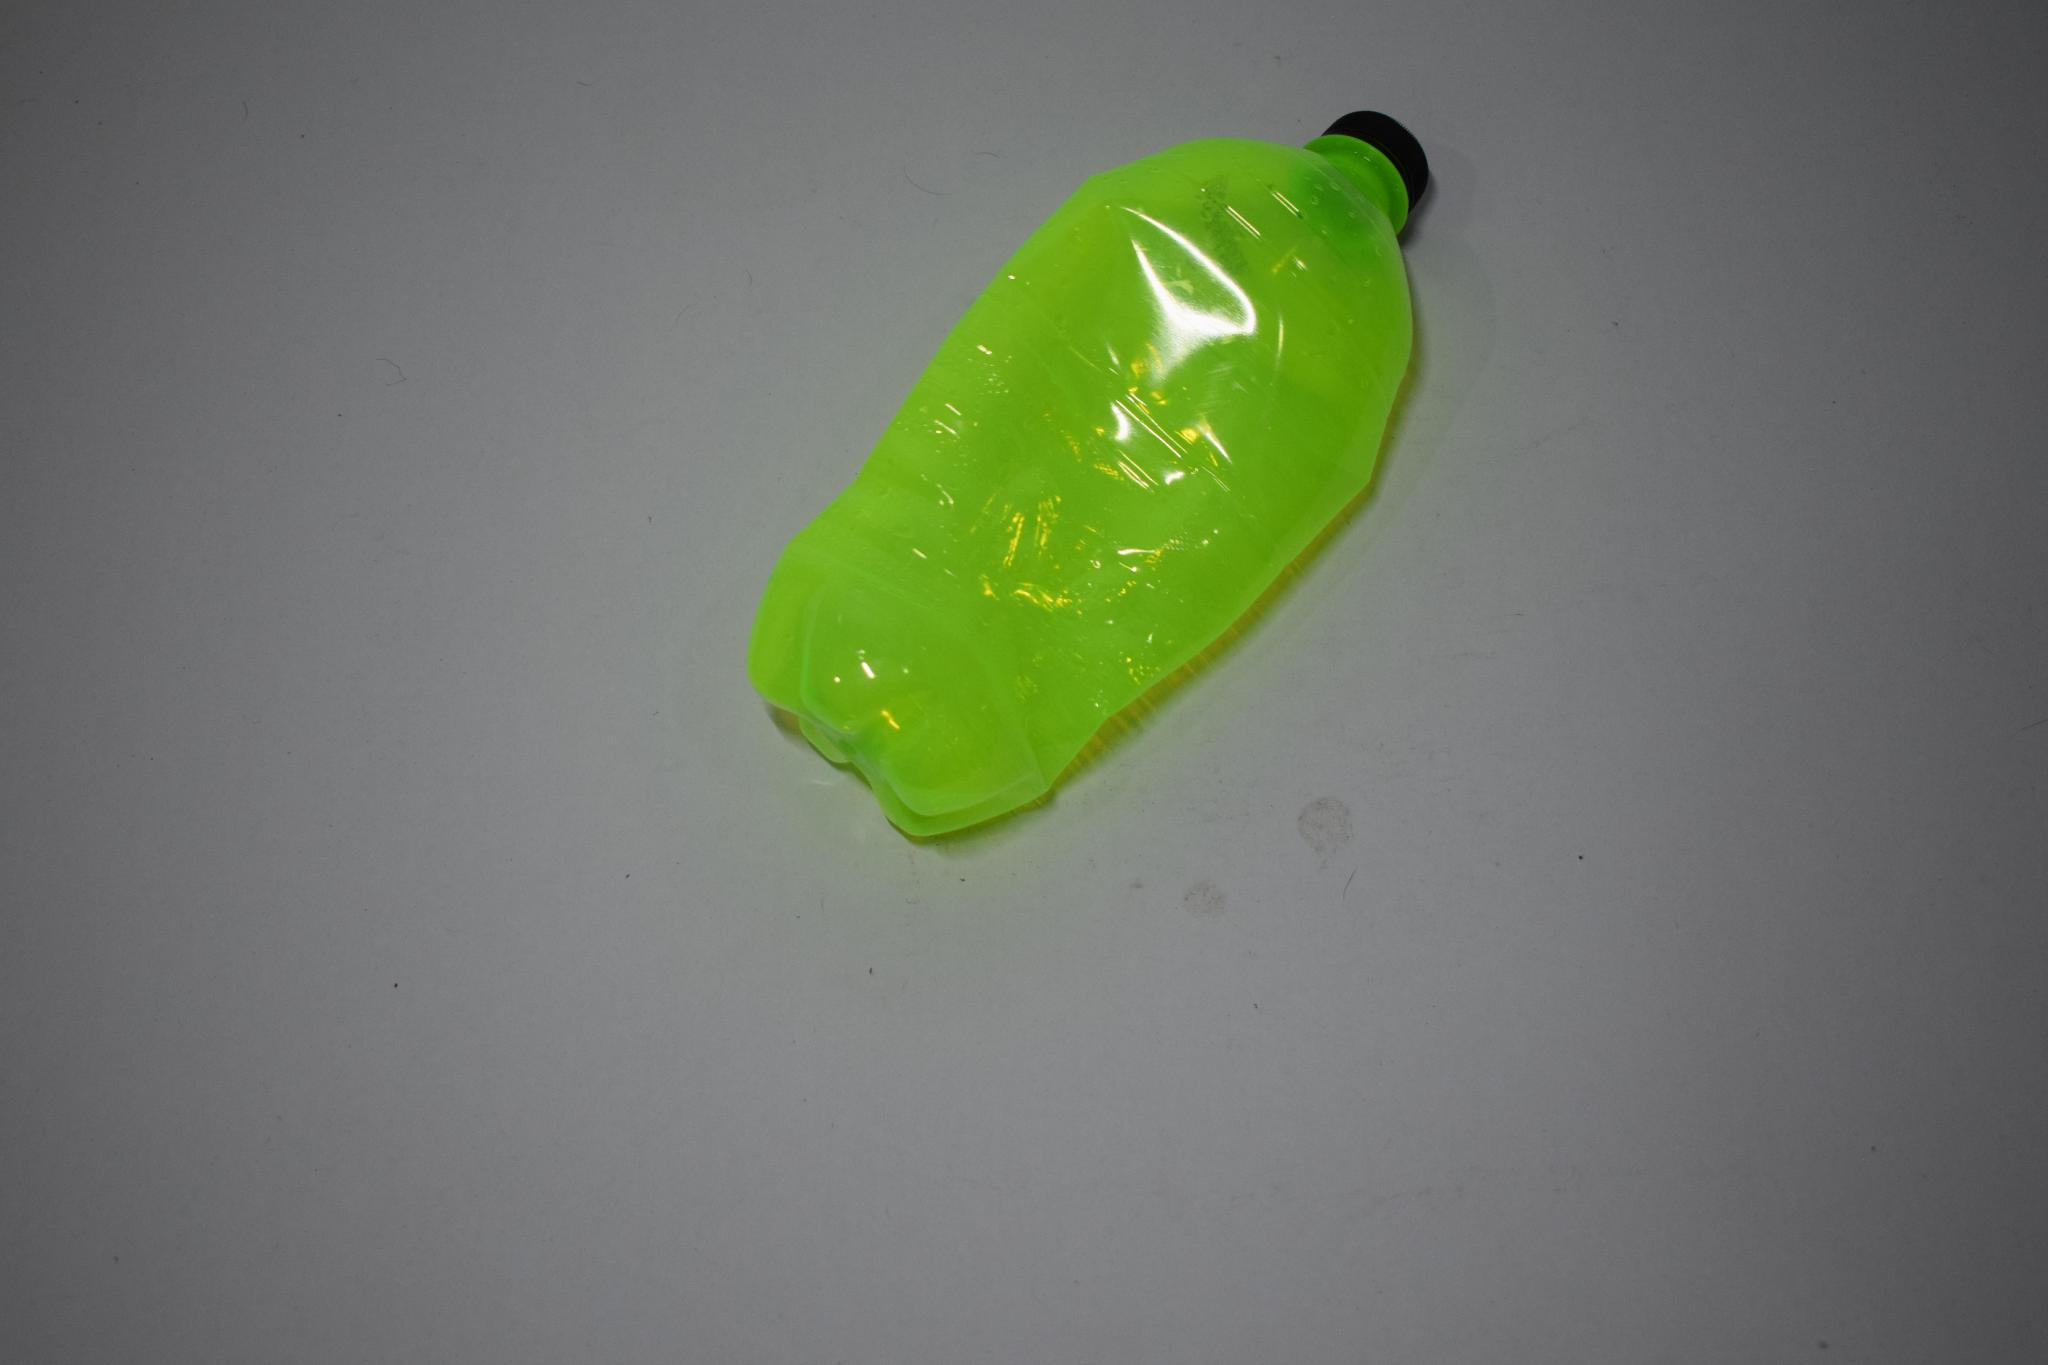bottle: (723, 105, 1521, 890)
